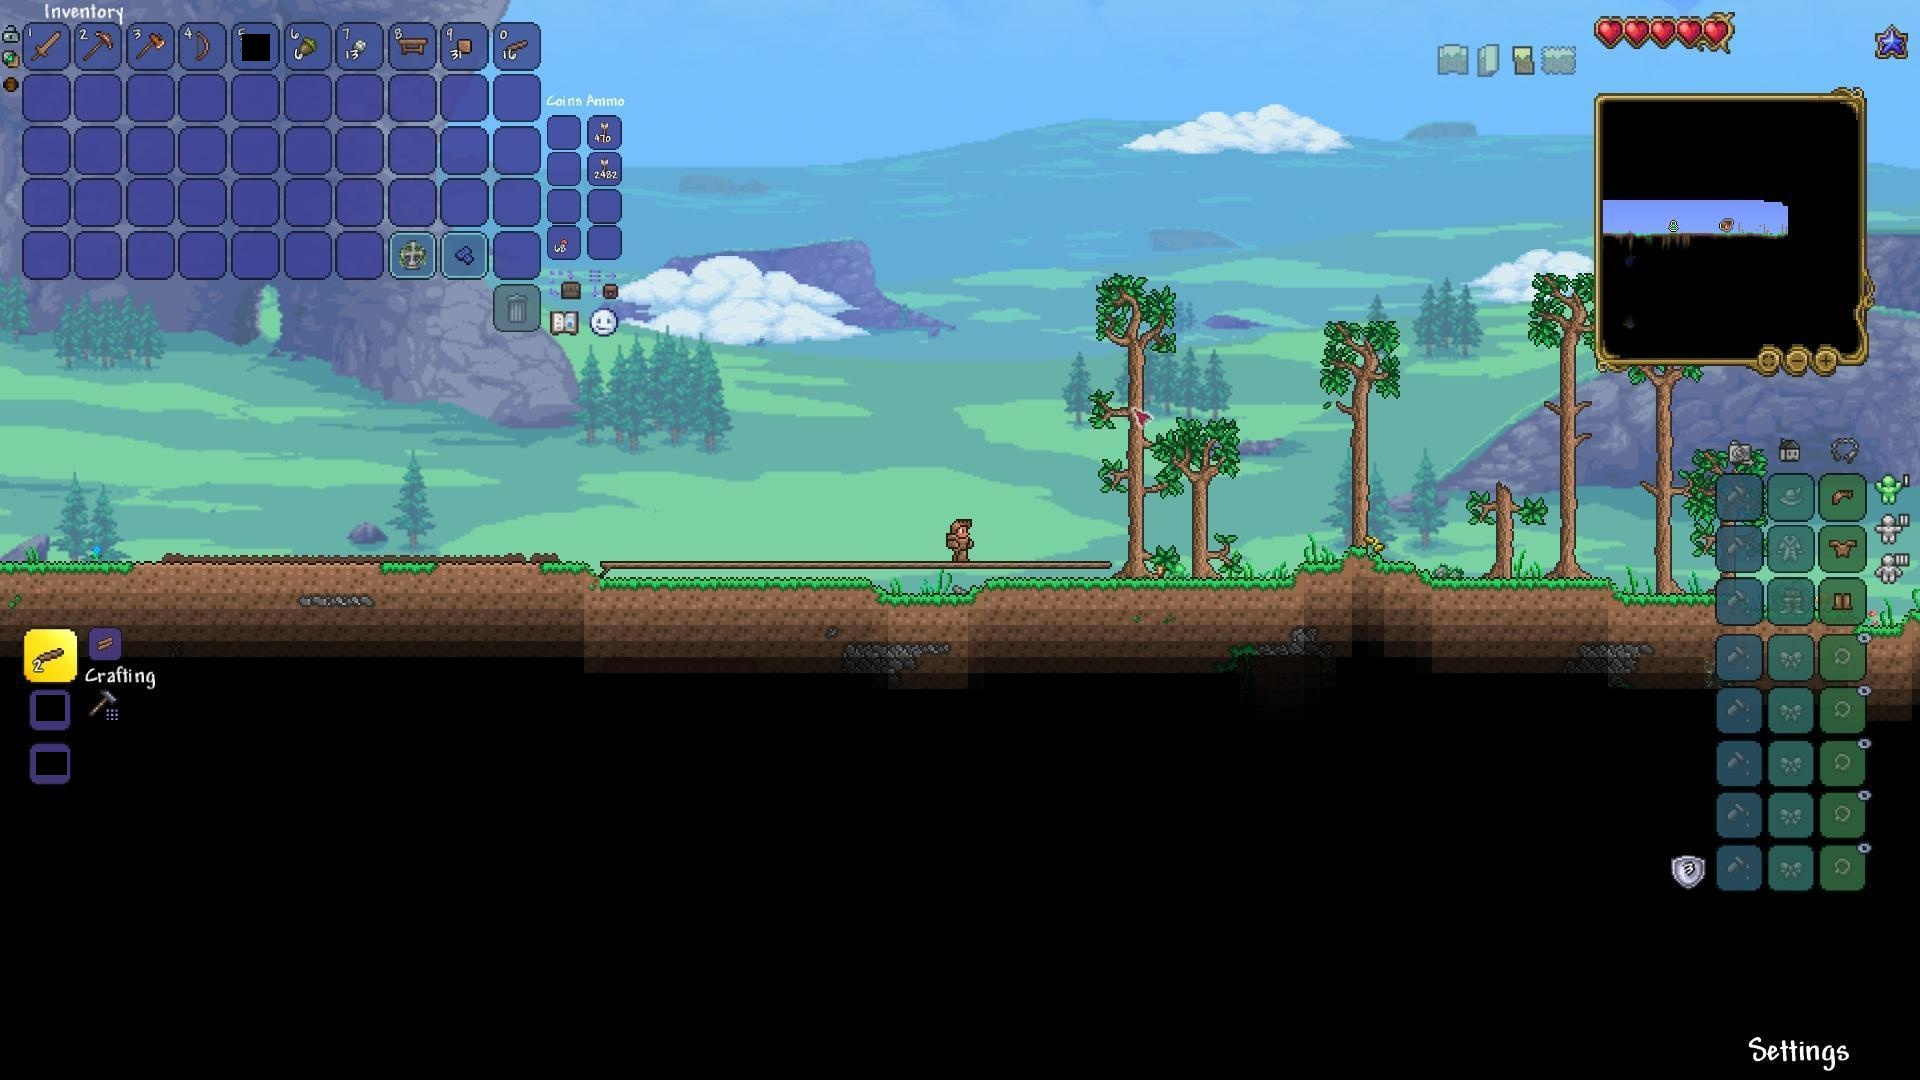breastplate: (1829, 537, 1859, 558)
helmet: (1826, 483, 1858, 512)
legs: (1830, 585, 1855, 616)
wood: (88, 628, 120, 658)
workbench: (393, 32, 430, 57)
